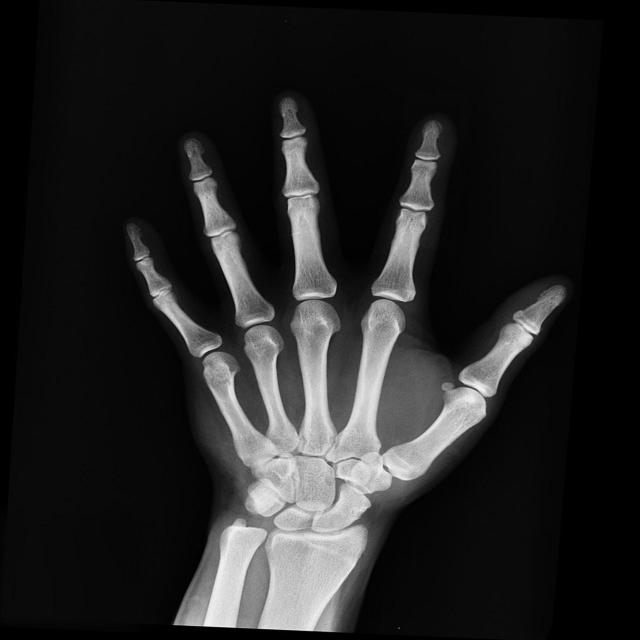Oblique Displaced: (273, 528, 370, 579)
